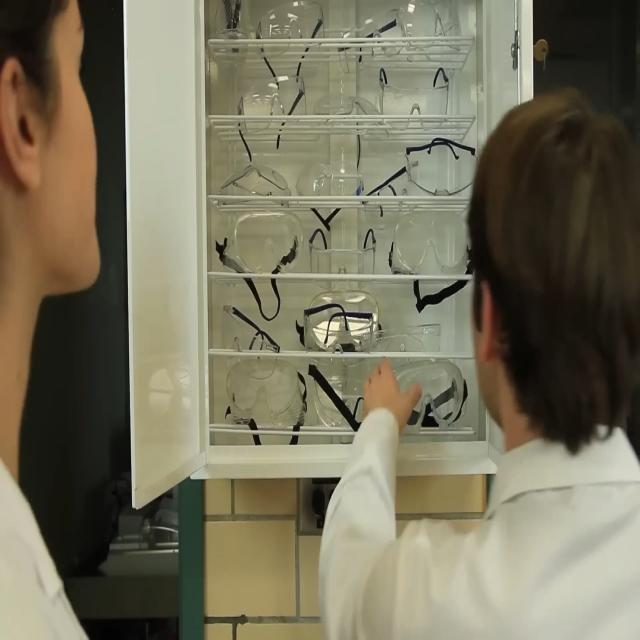googles: (386, 344, 481, 436), (222, 345, 309, 445), (390, 204, 476, 290), (218, 197, 304, 274), (232, 67, 310, 146), (364, 314, 448, 387), (213, 302, 289, 381), (210, 146, 293, 218), (310, 344, 369, 442), (296, 291, 382, 358), (402, 132, 480, 204), (336, 2, 411, 75), (309, 89, 394, 145), (292, 159, 371, 218), (307, 232, 380, 291), (380, 80, 454, 136), (258, 0, 329, 57), (401, 0, 467, 60), (360, 173, 409, 234), (208, 0, 255, 61)
labcoat: (313, 401, 640, 640), (0, 448, 93, 639)
